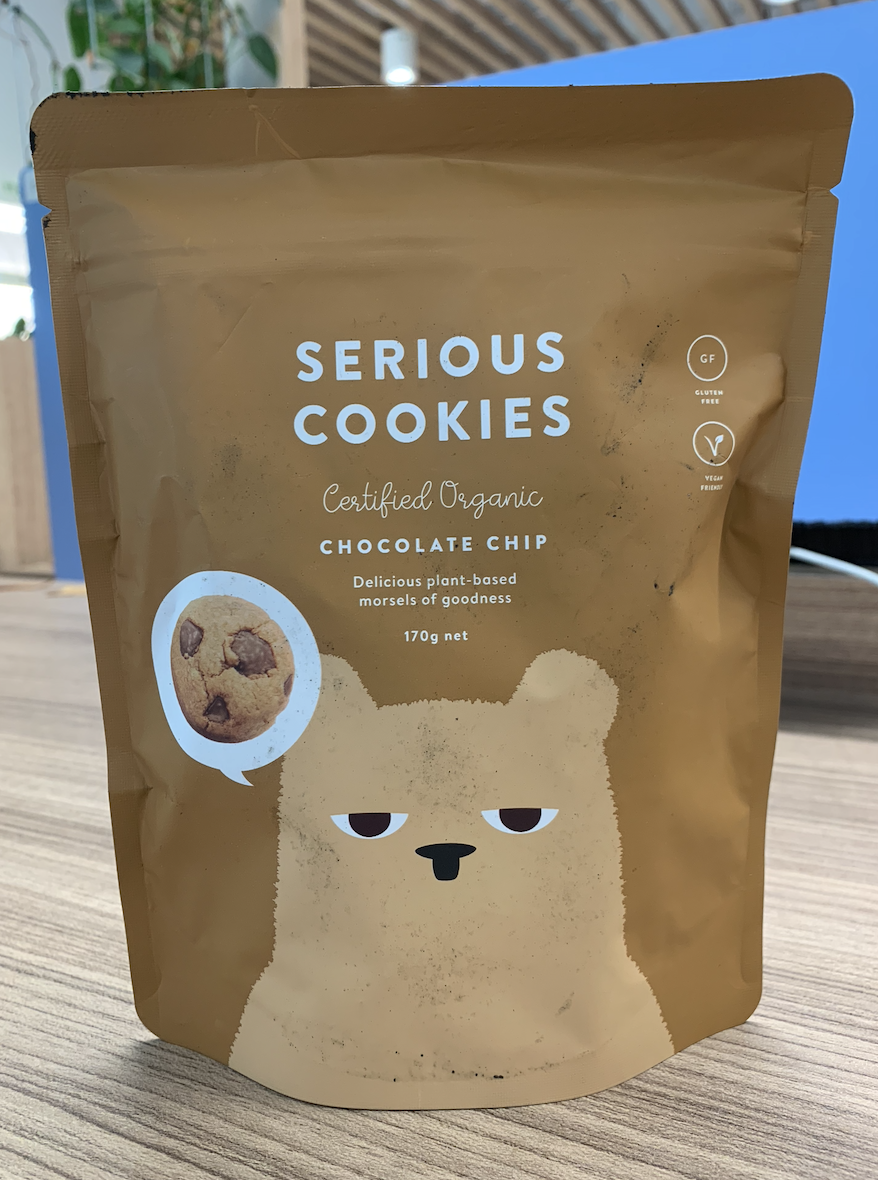cookies_100g-199g: (143, 190, 769, 1029)
